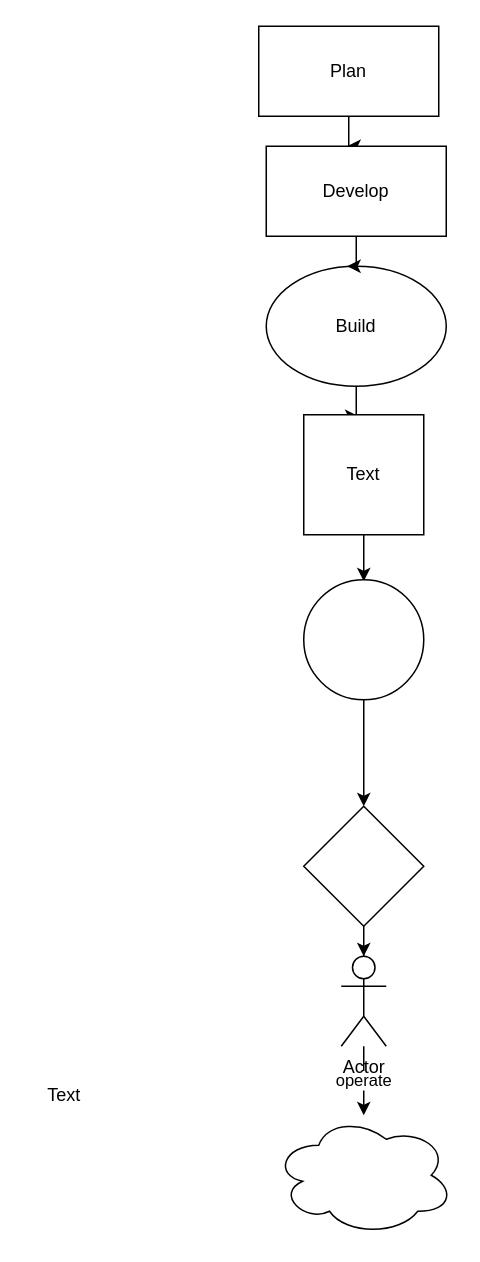
The diagram is 480 pixels wide and 1262 high, and some of its shapes have lost their labels. The centre of each missing label's shape, as x and y in pixels:
Deploy: [363,865]
Release: [363,639]
